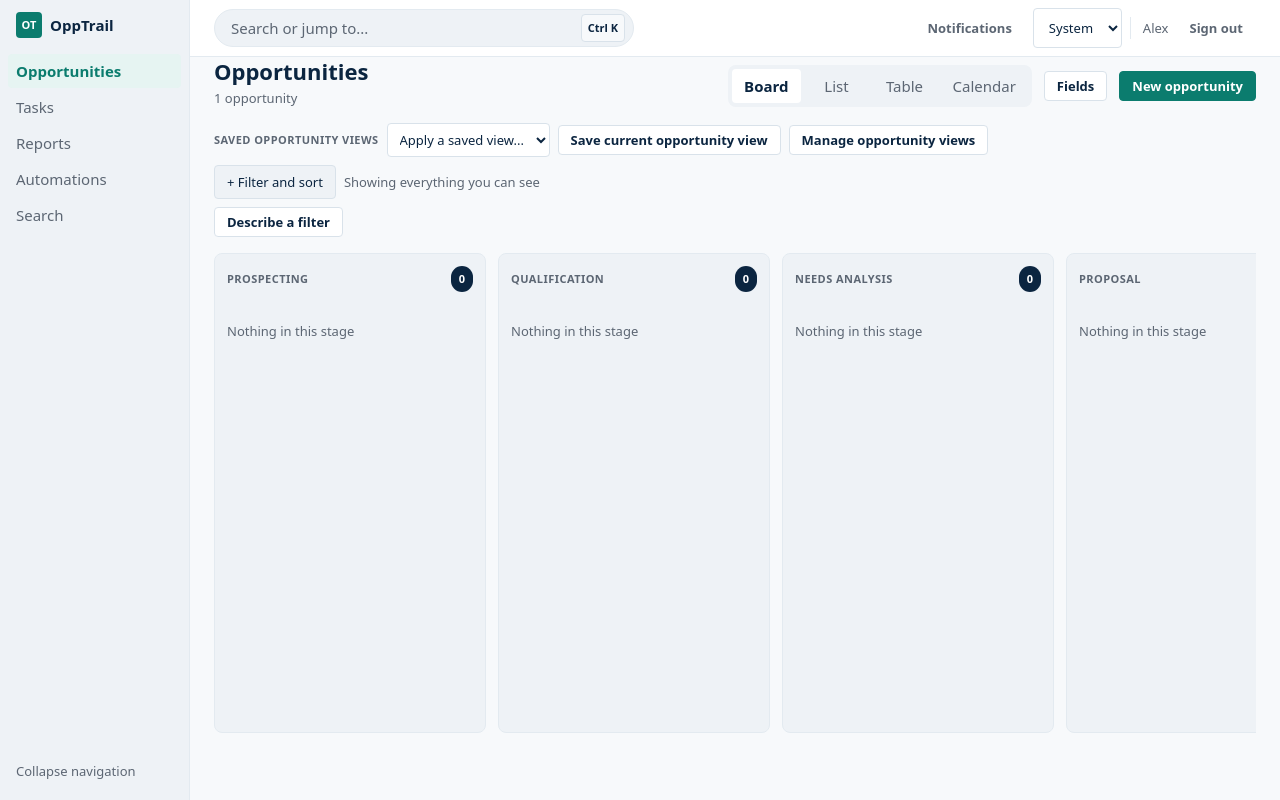
Test case: one shell for every screen › starts every screen at the top
This screenshot has width=1280, height=800.
Check: the heading "Opportunities" is shown, box [214,57,368,85]
What coordinates should you click on to do the following:
click the link "Reports"
I would click on:
 (43, 143)
Its box is [16,133,71,153].
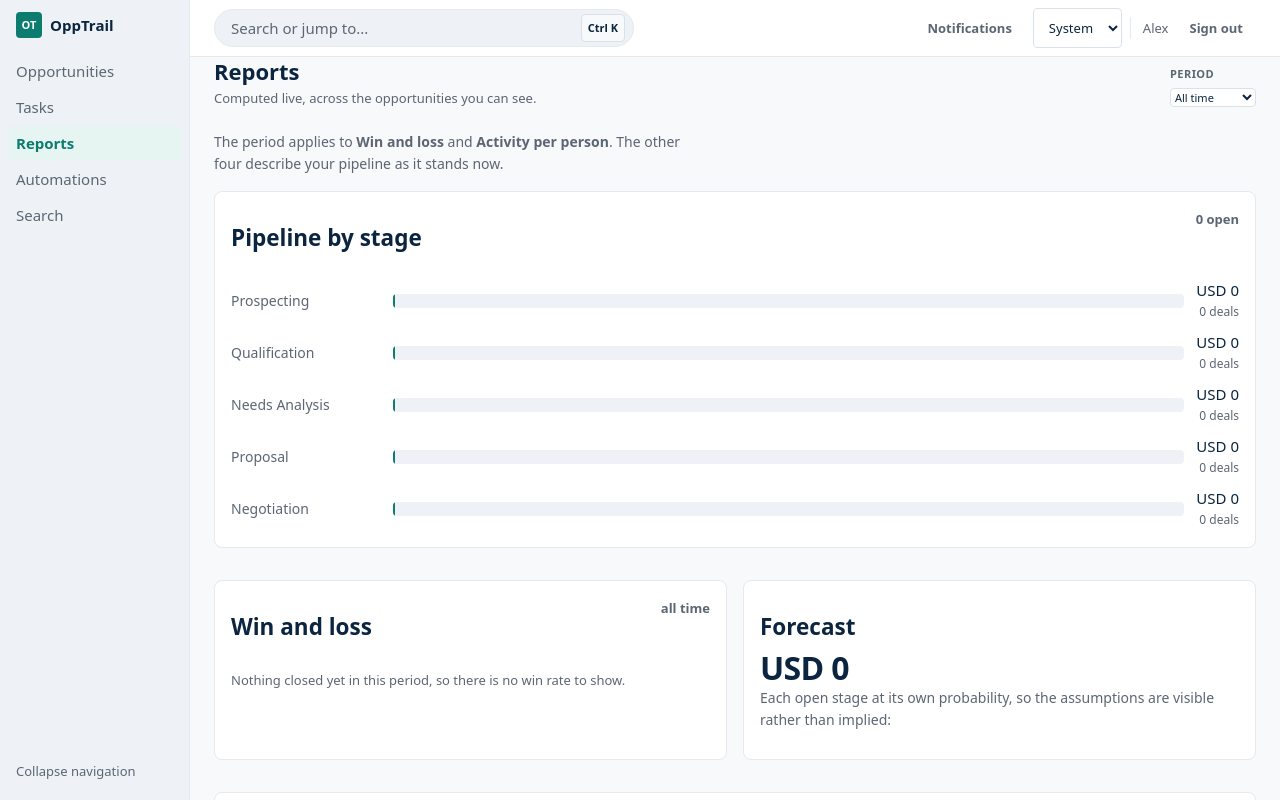
Check: the heading "Reports" is shown, box [214,56,300,86]
